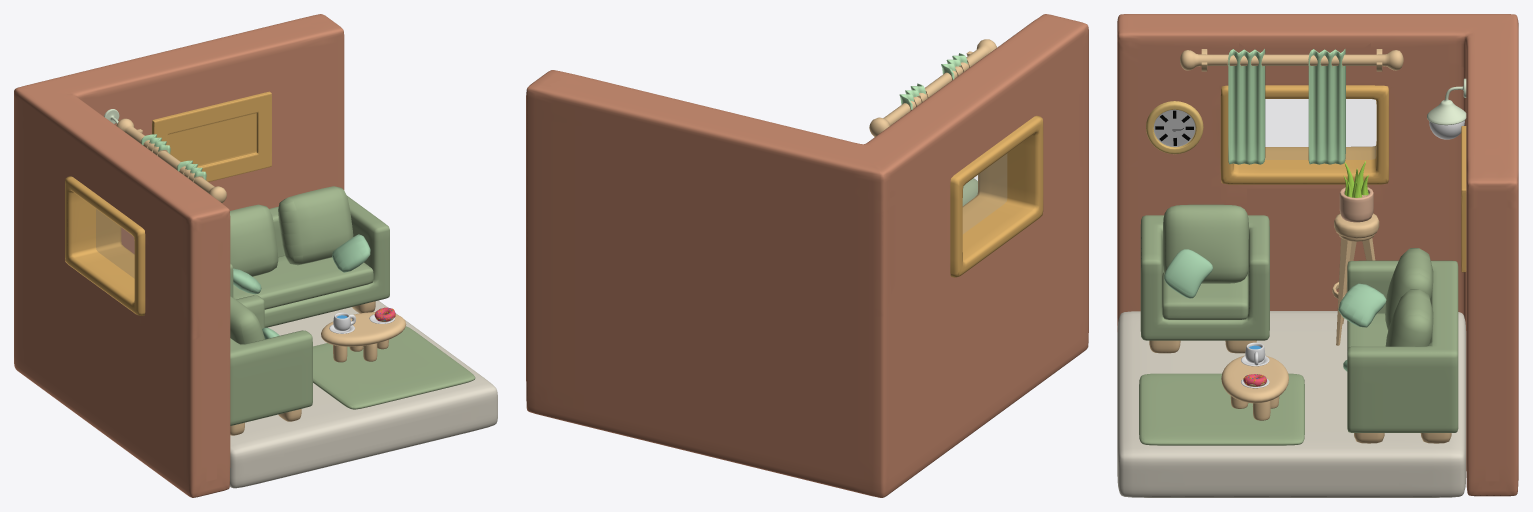
The picture shows the model from 3 angles, left to right: view 1: azimuth 30°, elevation 25°; view 2: azimuth 150°, elevation 25°; view 3: azimuth 270°, elevation 25°; orthographic projection. The views are drawn at different scales.
Visible parts, largest first — view 1: Base, Double Sofa, Single Sofa, Window, Coffe Table, Curtain; view 2: Base, Window, Curtain; view 3: Base, Double Sofa, Single Sofa, Window, Curtain, Table Side, Coffe Table, Clock, Light.
Part boxes in pixels (bbox=[...]): Base: bbox=[14, 14, 497, 497]; Double Sofa: bbox=[230, 186, 389, 327]; Single Sofa: bbox=[230, 295, 312, 435]; Window: bbox=[65, 176, 145, 315]; Coffe Table: bbox=[321, 307, 406, 362]; Curtain: bbox=[116, 118, 226, 202]; Base: bbox=[526, 14, 1088, 497]; Window: bbox=[950, 115, 1043, 277]; Curtain: bbox=[869, 39, 996, 136]; Base: bbox=[1117, 14, 1518, 497]; Double Sofa: bbox=[1338, 248, 1458, 443]; Single Sofa: bbox=[1140, 204, 1269, 353]; Window: bbox=[1220, 85, 1388, 184]; Curtain: bbox=[1180, 49, 1403, 164]; Table Side: bbox=[1332, 161, 1379, 345]; Coffe Table: bbox=[1221, 342, 1288, 420]; Clock: bbox=[1146, 101, 1203, 154]; Light: bbox=[1427, 78, 1466, 139].
Bounding box in the file's own units: 8.87 × 7.64 × 8.69.
